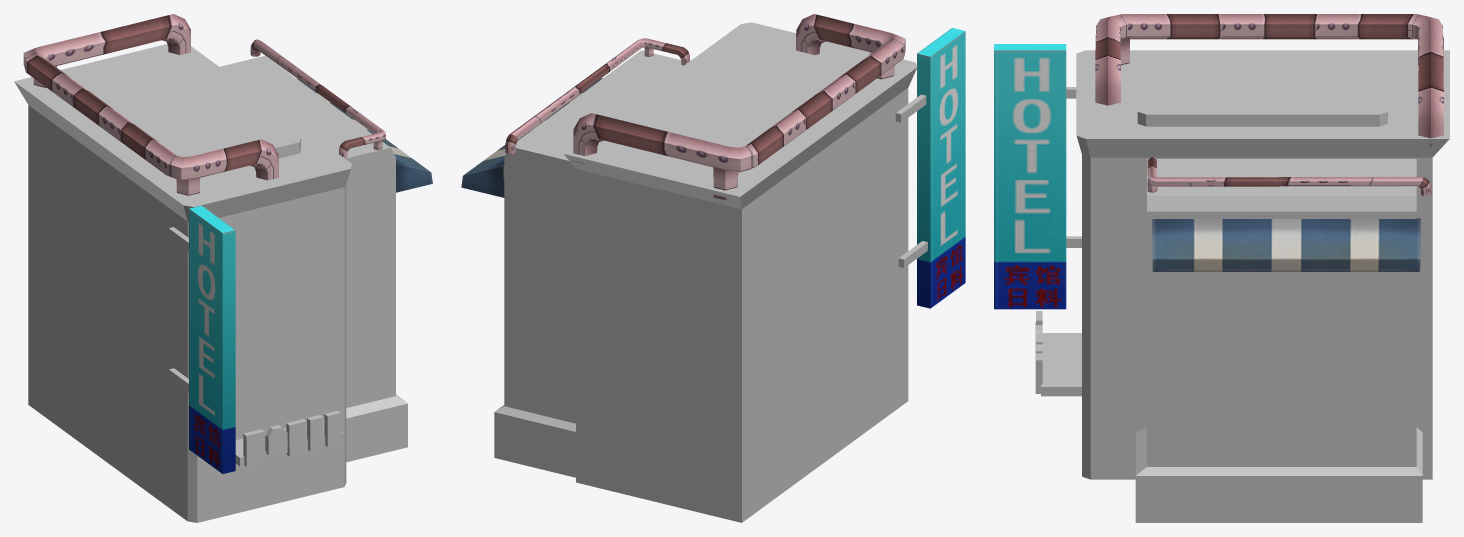
Rendered from PK_model_house_08.FBX.
3 renders of one model, left to right at view 1: azimuth 30°, elevation 25°; view 2: azimuth 150°, elevation 25°; view 3: azimuth 270°, elevation 25°, orthographic. The views are drawn at different scales.
Visible parts, largest first — view 1: PK_model_house_08, PK_model_sign03, PK_model_waterpipe07, PK_model_waterpipe08, PK_model_sundries_02; view 2: PK_model_house_08, PK_model_sign03, PK_model_waterpipe07, PK_model_waterpipe08, PK_model_sundries_02; view 3: PK_model_house_08, PK_model_sign03, PK_model_sundries_02, PK_model_waterpipe07, PK_model_waterpipe08.
Part boxes in pixels (bbox=[...]): PK_model_house_08: bbox=[14, 44, 407, 522]; PK_model_sign03: bbox=[189, 205, 235, 473]; PK_model_waterpipe07: bbox=[23, 14, 278, 195]; PK_model_waterpipe08: bbox=[250, 39, 385, 158]; PK_model_sundries_02: bbox=[297, 79, 432, 192]; PK_model_house_08: bbox=[494, 22, 927, 522]; PK_model_sign03: bbox=[917, 27, 965, 308]; PK_model_waterpipe07: bbox=[573, 14, 905, 200]; PK_model_waterpipe08: bbox=[505, 38, 690, 154]; PK_model_sundries_02: bbox=[461, 78, 602, 197]; PK_model_house_08: bbox=[1035, 50, 1449, 522]; PK_model_sign03: bbox=[994, 44, 1066, 309]; PK_model_sundries_02: bbox=[1152, 218, 1420, 271]; PK_model_waterpipe07: bbox=[1095, 14, 1443, 146]; PK_model_waterpipe08: bbox=[1147, 157, 1431, 196].
Bounding box in the file's own units: 932 × 1117 × 1207.
